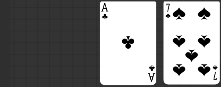7C: (165, 3, 172, 20)
AC: (101, 3, 110, 21)
